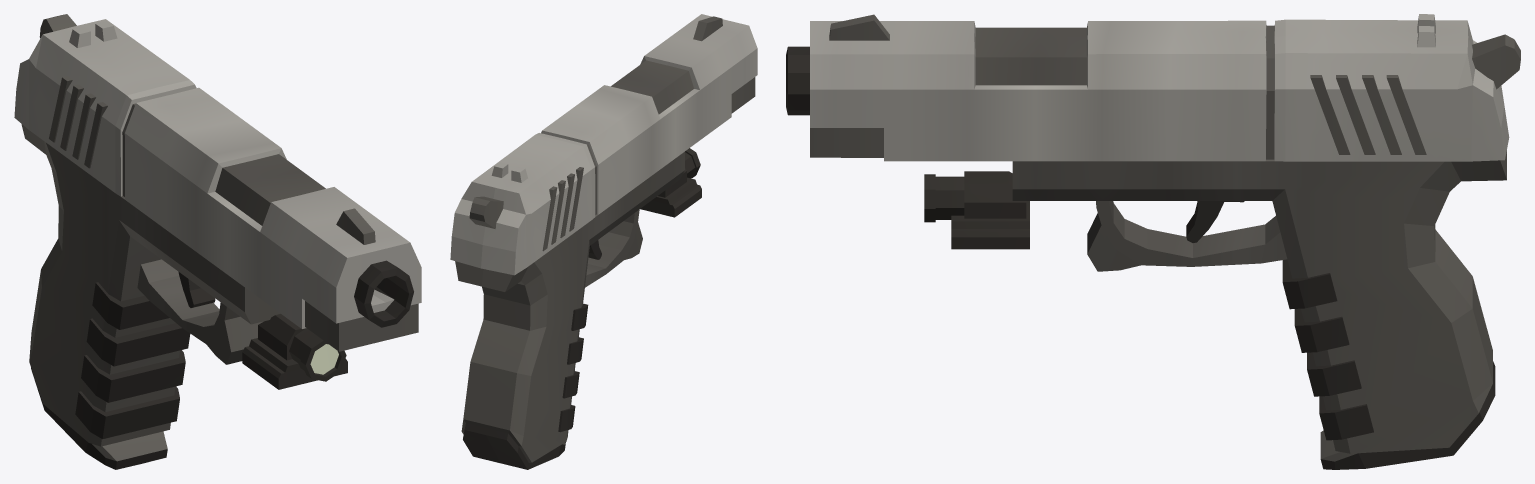
3 views of the same model, side by side, from view 1: azimuth 30°, elevation 25°; view 2: azimuth 150°, elevation 25°; view 3: azimuth 270°, elevation 25° (orthographic). The views are drawn at different scales.
Parts seen in each view (by area): view 1: snub; view 2: snub; view 3: snub.
Boxes of the visible parts, x1,y1,x2,y2 form: snub: (14,14,421,469); snub: (450,14,757,469); snub: (786,14,1520,469).
Bounding box in the file's own units: 0.0339 × 0.1482 × 0.225.
1 material, 1 textured.
